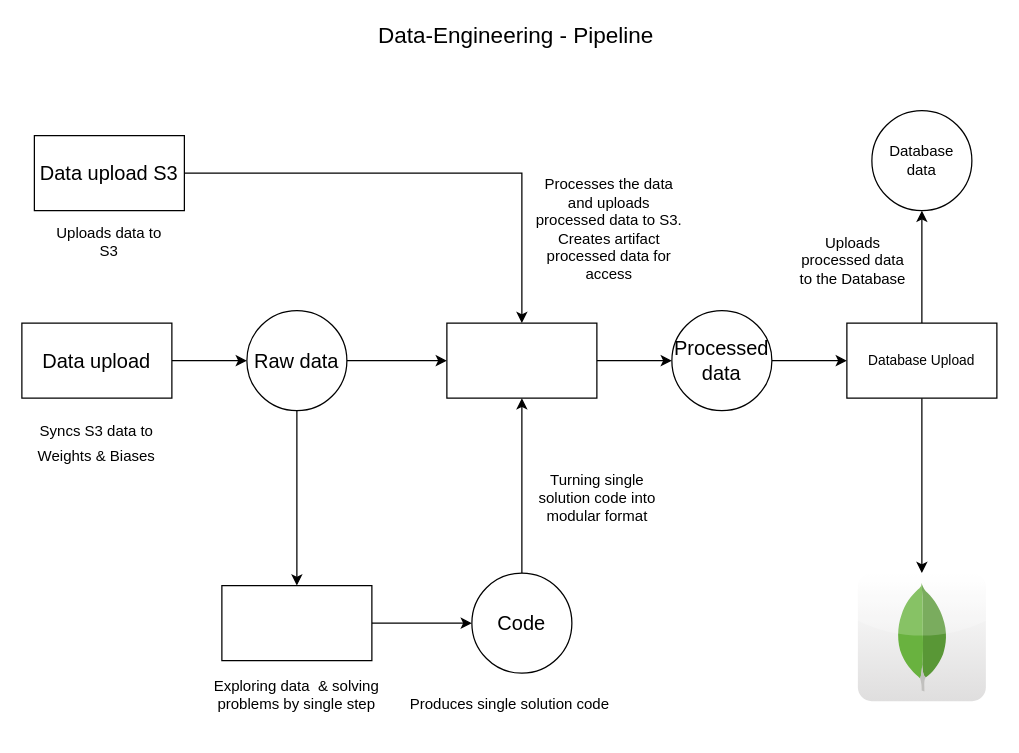
Image size: 1019x753. Some labels were removed from this diagram. The box of each missing label's shape, as (x1, y1, x2, y2) in pixels:
Data Processing: (446, 322, 597, 398)
EDA: (221, 584, 372, 661)
MongoDB: (857, 572, 986, 701)
